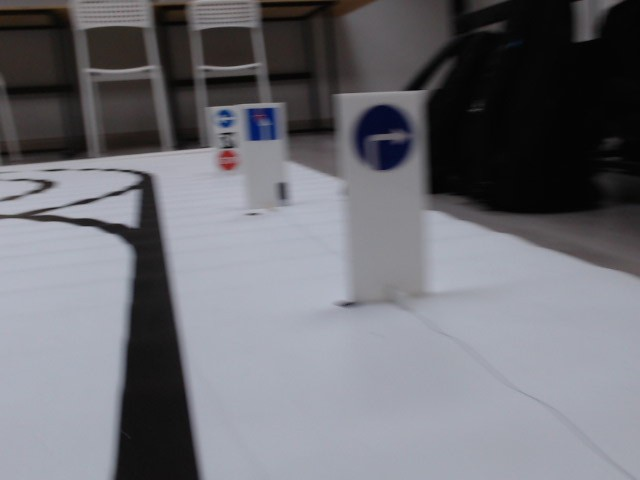Right: (351, 103, 413, 172)
priority_movement: (245, 107, 279, 141)
